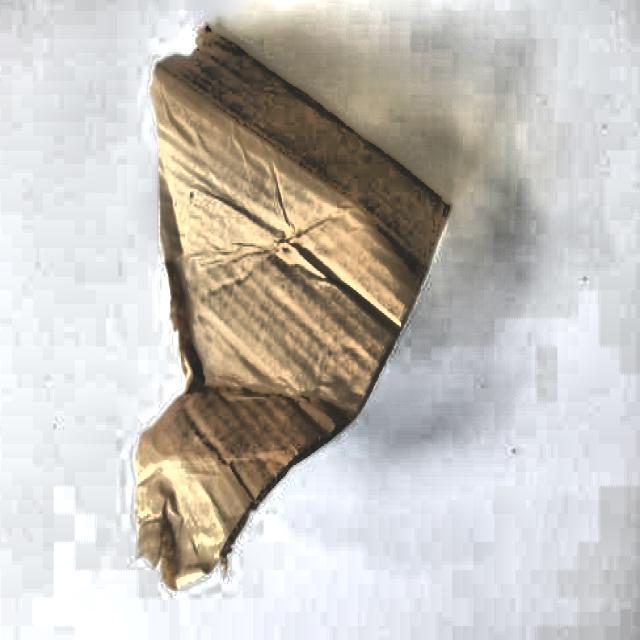cardboard: (134, 24, 452, 594)
